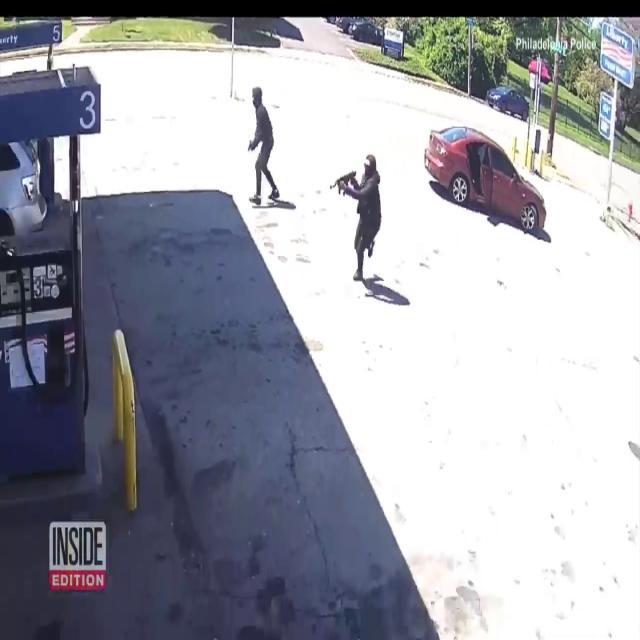penembakan: (328, 140, 386, 286), (244, 86, 284, 220)
